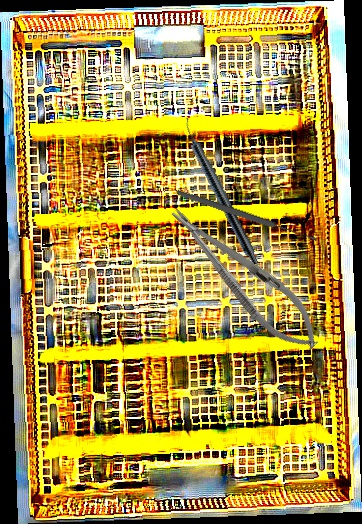Handpiece: (177, 116, 264, 267)
Needle Holder: (158, 193, 332, 363)
Surgical Spoon: (174, 187, 319, 245)
